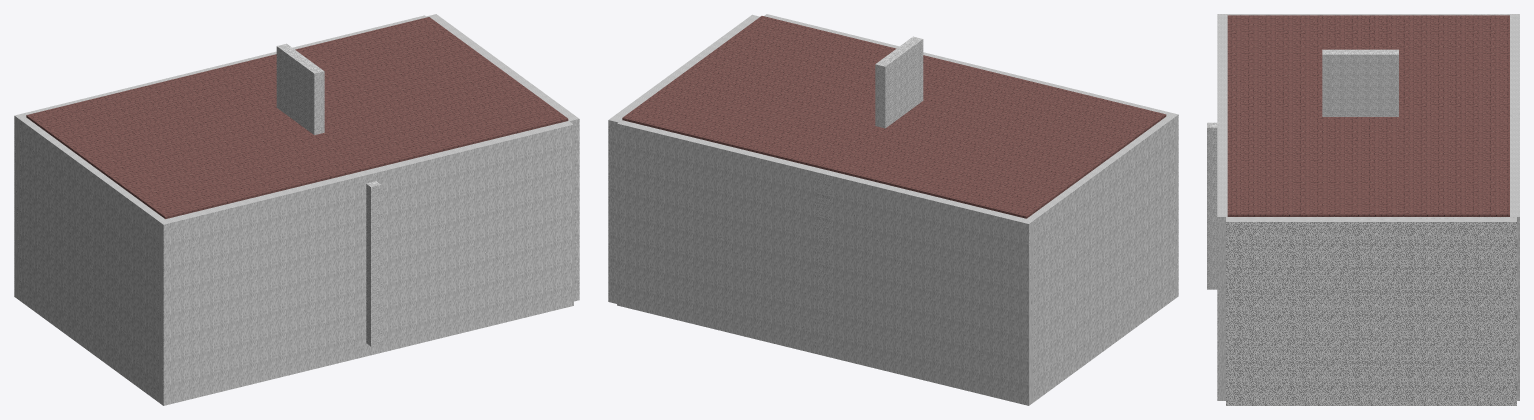
3 views of the same model, side by side, from view 1: azimuth 30°, elevation 25°; view 2: azimuth 150°, elevation 25°; view 3: azimuth 270°, elevation 25° (orthographic).
Visible parts, largest first — view 1: Wall.005, Wall.001, FactoryFloor.002, Wall.007, FactoryFloor.001, Wall.010, Wall.003, Wall.002, Wall.006, Wall.004; view 2: Wall.006, Wall.004, FactoryFloor.002, Wall.007, FactoryFloor.001, Wall.010, Wall.002, Wall.005, Wall.001; view 3: Wall.002, FactoryFloor.001, FactoryFloor.002, Wall.010, Wall.001, Wall.003, Wall.004, Wall.005, Wall.006, Wall.007.
Boxes of the visible parts, bbox=[...] form: Wall.005: bbox=[157, 173, 372, 405]; Wall.001: bbox=[356, 121, 573, 357]; FactoryFloor.002: bbox=[26, 66, 366, 218]; Wall.007: bbox=[20, 117, 166, 402]; FactoryFloor.001: bbox=[228, 17, 568, 169]; Wall.010: bbox=[276, 43, 324, 134]; Wall.003: bbox=[366, 181, 381, 346]; Wall.002: bbox=[426, 14, 579, 301]; Wall.006: bbox=[14, 64, 229, 300]; Wall.004: bbox=[212, 15, 426, 68]; Wall.006: bbox=[815, 170, 1034, 405]; Wall.004: bbox=[617, 120, 834, 353]; FactoryFloor.002: bbox=[824, 65, 1166, 218]; Wall.007: bbox=[1021, 116, 1174, 401]; FactoryFloor.001: bbox=[622, 16, 963, 169]; Wall.010: bbox=[875, 36, 923, 128]; Wall.002: bbox=[608, 14, 759, 303]; Wall.005: bbox=[965, 63, 1178, 299]; Wall.001: bbox=[764, 14, 979, 68]; Wall.002: bbox=[1226, 217, 1516, 405]; FactoryFloor.001: bbox=[1227, 115, 1509, 216]; FactoryFloor.002: bbox=[1227, 15, 1509, 114]; Wall.010: bbox=[1322, 49, 1398, 116]; Wall.001: bbox=[1217, 111, 1227, 400]; Wall.003: bbox=[1207, 122, 1217, 289]; Wall.004: bbox=[1510, 111, 1519, 400]; Wall.005: bbox=[1217, 14, 1228, 119]; Wall.006: bbox=[1508, 14, 1519, 119]; Wall.007: bbox=[1226, 14, 1515, 18].
Bounding box in the file's own units: 83 × 46.88 × 52.7.
